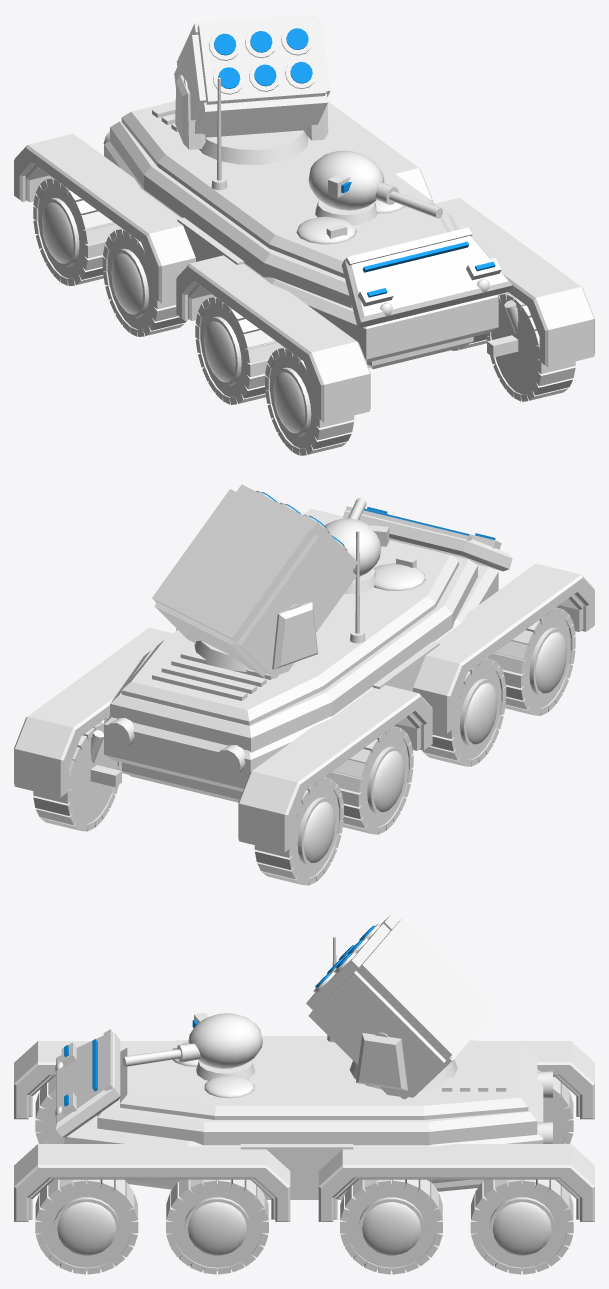
Rendered from kestrel-missile-carrier.obj.
The picture shows the model from 3 angles, top to bottom: view 1: azimuth 30°, elevation 25°; view 2: azimuth 150°, elevation 25°; view 3: azimuth 270°, elevation 25°; orthographic projection. The views are drawn at different scales.
Visible parts, largest first — view 1: hull_deck, wheel_arch_l0, wheel_arch_l1, wheel_arch_r0, glacis_plate, hull_upper, tyre, hull_flank, rim_dish, launcher_box, launcher_rail, rws_body (+20 smaller); view 2: hull_deck, launcher_cap, wheel_arch_l1, hull_upper, wheel_arch_l0, wheel_arch_r1, tyre, hull_flank, rim_dish, launcher_cheek_l, rim, glacis_plate (+21 smaller); view 3: hull_deck, tyre, hull_upper, wheel_arch_r1, wheel_arch_r0, rim_dish, launcher_cap, launcher_cheek_r, glacis_plate, rim, rws_body, hull_flank (+32 smaller).
Part boxes in pixels (x1=…): hull_deck: x1=121, y1=101, x2=450, y2=278; wheel_arch_l0: x1=176, y1=255, x2=370, y2=422; wheel_arch_l1: x1=14, y1=134, x2=195, y2=303; wheel_arch_r0: x1=435, y1=197, x2=594, y2=367; glacis_plate: x1=341, y1=235, x2=512, y2=328; hull_upper: x1=110, y1=121, x2=458, y2=308; tyre: x1=38, y1=185, x2=539, y2=448; hull_flank: x1=104, y1=141, x2=498, y2=362; rim_dish: x1=42, y1=202, x2=305, y2=433; launcher_box: x1=198, y1=18, x2=326, y2=104; launcher_rail: x1=195, y1=93, x2=327, y2=137; rws_body: x1=308, y1=150, x2=384, y2=210; hull_deck: x1=121, y1=540, x2=458, y2=725; launcher_cap: x1=152, y1=489, x2=314, y2=642; wheel_arch_l1: x1=238, y1=685, x2=432, y2=852; hull_upper: x1=110, y1=540, x2=477, y2=752; wheel_arch_l0: x1=413, y1=563, x2=594, y2=733; wheel_arch_r1: x1=14, y1=627, x2=172, y2=797; tyre: x1=69, y1=615, x2=570, y2=878; hull_flank: x1=104, y1=564, x2=498, y2=791; rim_dish: x1=303, y1=632, x2=566, y2=862; launcher_cheek_l: x1=237, y1=535, x2=353, y2=678; rim: x1=297, y1=627, x2=568, y2=866; glacis_plate: x1=342, y1=510, x2=512, y2=571; hull_deck: x1=120, y1=1036, x2=528, y2=1119; tyre: x1=42, y1=1097, x2=566, y2=1270; hull_upper: x1=97, y1=1052, x2=537, y2=1145; wheel_arch_r1: x1=318, y1=1144, x2=594, y2=1221; wheel_arch_r0: x1=14, y1=1144, x2=290, y2=1221; rim_dish: x1=57, y1=1202, x2=551, y2=1255; launcher_cap: x1=357, y1=918, x2=492, y2=1059; launcher_cheek_r: x1=314, y1=971, x2=445, y2=1099; glacis_plate: x1=56, y1=1032, x2=120, y2=1137; rim: x1=53, y1=1197, x2=555, y2=1258; rws_body: x1=188, y1=1013, x2=262, y2=1068; hull_flank: x1=64, y1=1069, x2=543, y2=1183.
Bounding box in the file's own units: 3.97 × 4.03 × 7.74.
